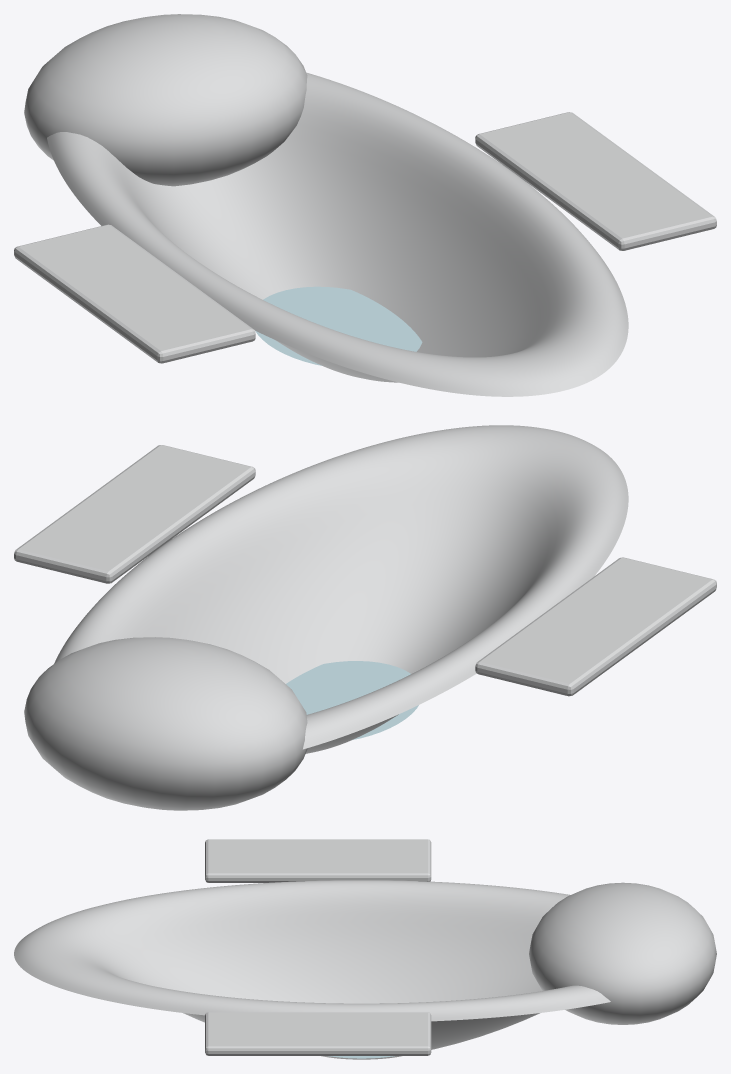
Rendered from toilet_squat.glb.
3 renders of one model, top to bottom at view 1: azimuth 30°, elevation 25°; view 2: azimuth 150°, elevation 25°; view 3: azimuth 270°, elevation 25°, orthographic. The views are drawn at different scales.
Parts seen in each view (by area): view 1: Squat_Pan, Squat_Hood, Squat_FootPad_L, Squat_FootPad_R, Squat_Water; view 2: Squat_Pan, Squat_Hood, Squat_FootPad_L, Squat_FootPad_R, Squat_Water; view 3: Squat_Pan, Squat_Hood, Squat_FootPad_R, Squat_FootPad_L.
Boxes of the visible parts, x1,y1,x2,y2 form: Squat_Pan: [47, 72, 628, 396]; Squat_Hood: [24, 14, 307, 186]; Squat_FootPad_L: [14, 224, 255, 363]; Squat_FootPad_R: [475, 112, 716, 250]; Squat_Water: [255, 286, 422, 365]; Squat_Pan: [54, 425, 628, 753]; Squat_Hood: [24, 637, 307, 810]; Squat_FootPad_L: [475, 557, 716, 696]; Squat_FootPad_R: [14, 445, 255, 583]; Squat_Water: [286, 661, 418, 739]; Squat_Pan: [14, 880, 610, 1059]; Squat_Hood: [529, 882, 716, 1024]; Squat_FootPad_R: [205, 1012, 431, 1055]; Squat_FootPad_L: [205, 839, 431, 882].
Bounding box in the file's own units: 0.57 × 0.186 × 0.8074.
